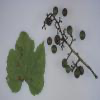grape leaf black rot: (4, 31, 46, 97)
